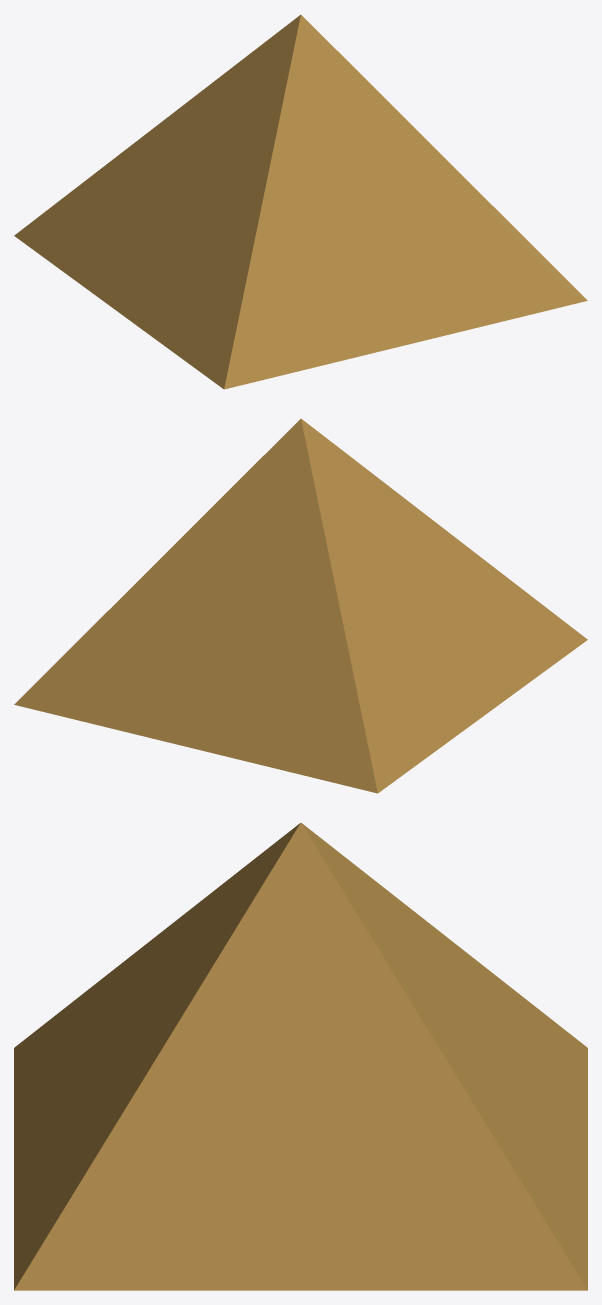
Rendered from SM_Landmark_GizaPyramid_A.obj.
3 views of the same model, one above another, from view 1: azimuth 30°, elevation 25°; view 2: azimuth 150°, elevation 25°; view 3: azimuth 270°, elevation 25° (orthographic). The views are drawn at different scales.
Visible parts, largest first — view 1: SM_Landmark_GizaPyramid_A; view 2: SM_Landmark_GizaPyramid_A; view 3: SM_Landmark_GizaPyramid_A.
Part boxes in pixels (<box>): SM_Landmark_GizaPyramid_A: <box>14,14,587,389</box>; SM_Landmark_GizaPyramid_A: <box>14,418,587,793</box>; SM_Landmark_GizaPyramid_A: <box>14,823,587,1290</box>.
Bounding box in the file's own units: 12 × 8 × 12.
1 material, 1 textured.
